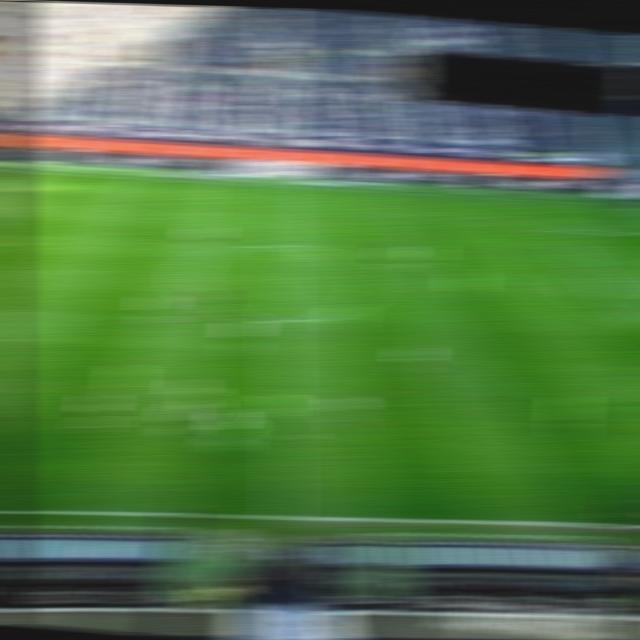bigarea_top_inner: (533, 222, 565, 234)
bottom_arc_area_intersection: (628, 320, 640, 331)
corner: (605, 198, 635, 209)
halfcircle_bottom: (263, 314, 295, 326)
halfcircle_top: (261, 239, 293, 251)
midline_bottom_intersection: (266, 508, 300, 524)
midline_top_intersection: (260, 177, 292, 189)
top_arc_area_intersection: (570, 259, 602, 272)
